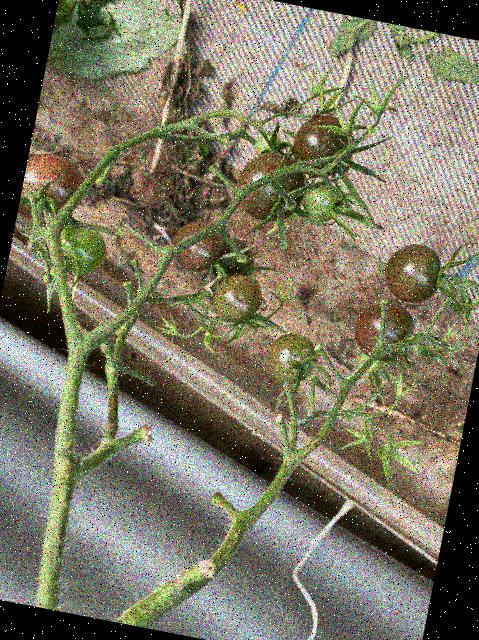l_green: (51, 218, 111, 280), (264, 329, 320, 388), (300, 179, 342, 224), (251, 128, 282, 159), (353, 351, 384, 379)
l_half_ripened: (230, 145, 312, 227), (287, 108, 360, 184), (17, 149, 90, 220), (349, 296, 419, 367), (380, 238, 447, 307), (167, 217, 227, 278), (209, 270, 266, 326)
